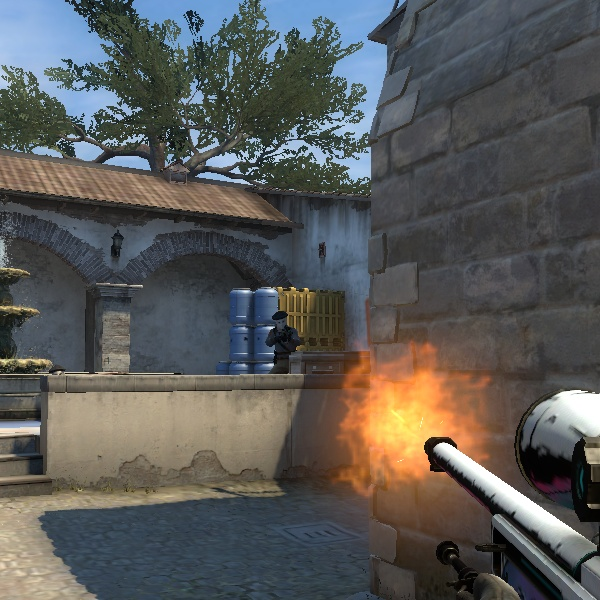t_body: (257, 307, 304, 375)
t_head: (269, 308, 289, 329)
